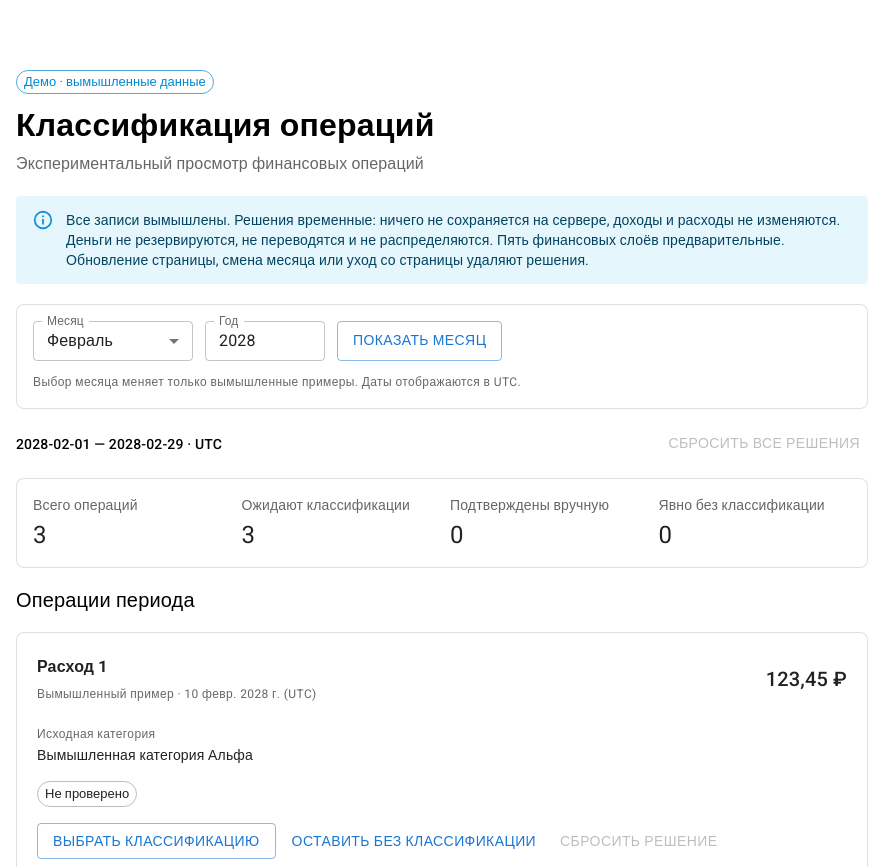
Test: fictional visual review using real transitions and resolver › explicit Apply accepts supported spending layer everyday
Click the button "Выбрать классификацию" at (156, 841), box [37,823,276,859]
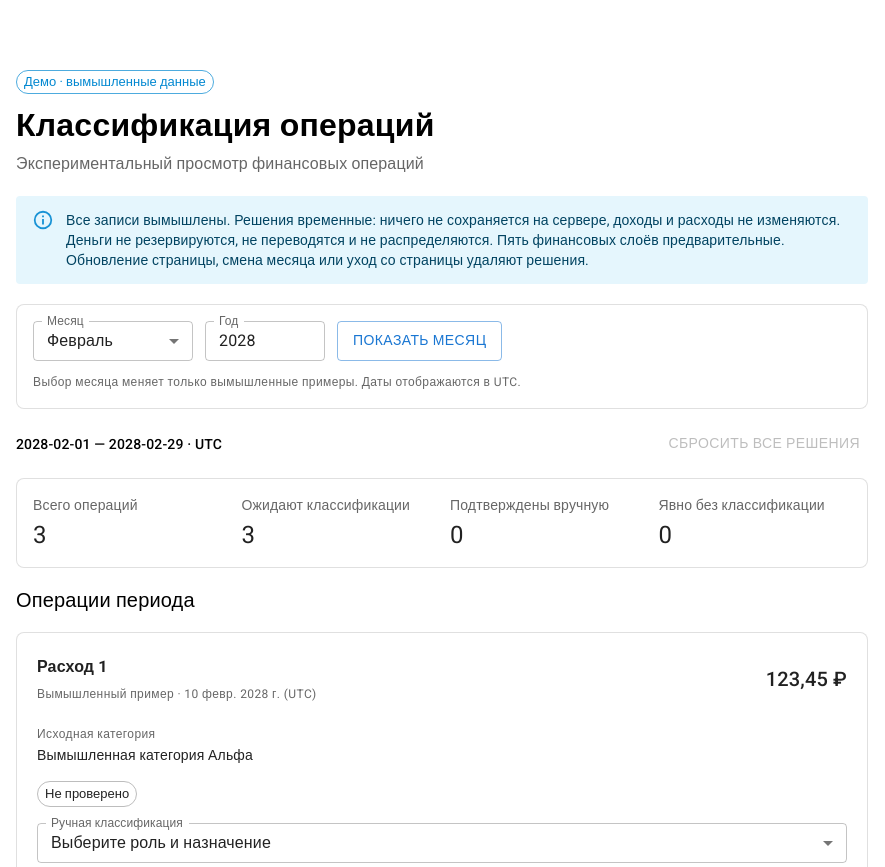
Select "Обычный расход — Повседневные расходы" in the dropdown labelled "Ручная классификация" at (442, 843), box [37,823,847,863]
(page scrolled)
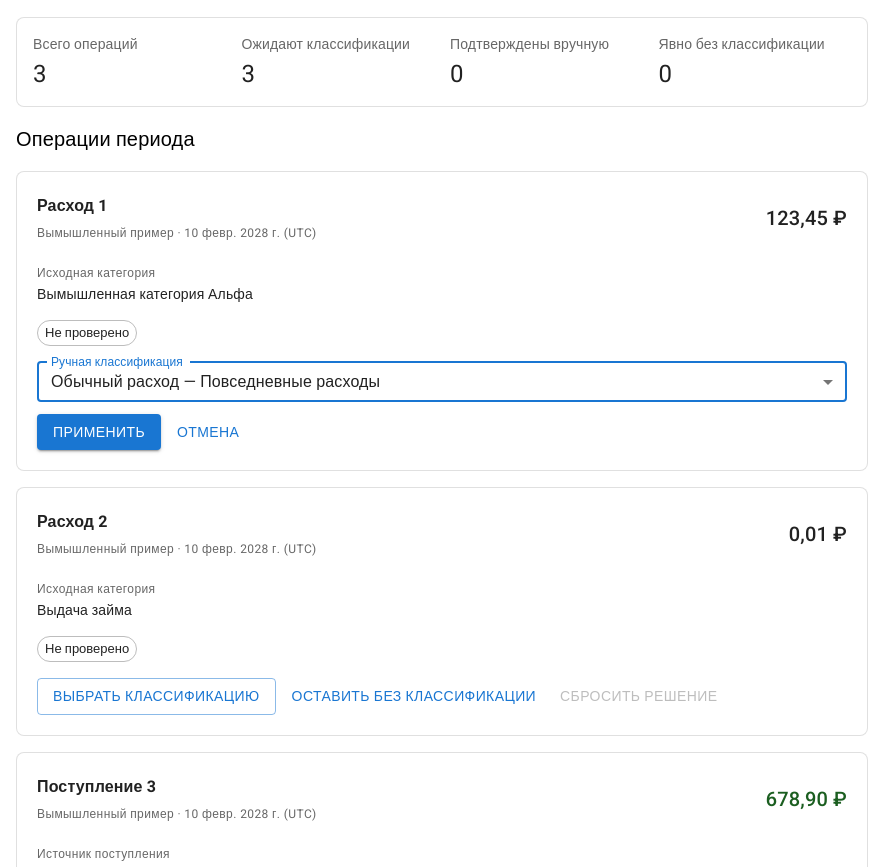
Click the button "Применить" at (99, 432), box [37,414,161,450]
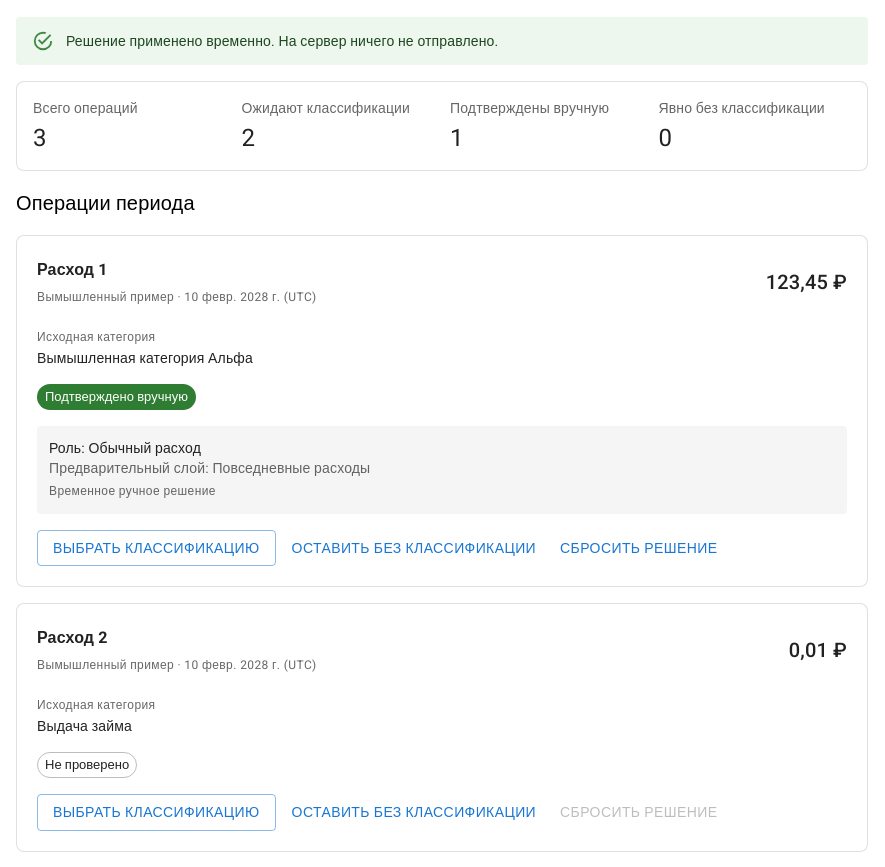
Result: the text "Подтверждено вручную" is shown at [37,385,196,409]
Result: the message shows "Решение применено временно" at [66,33,498,49]
